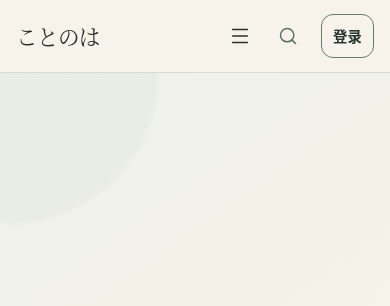
Test: SiteHeader › exposes a controlled mobile menu and closes it after choosing a destination
Click the button named "打开主导航" at (240, 36), box [218,14,262,58]
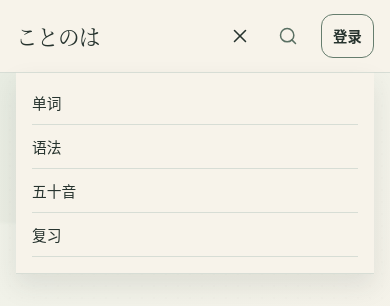
Check: the button named "打开主导航" is expanded, box [218,14,262,58]
Click the link "语法" at (47, 146), box [32,125,358,169]
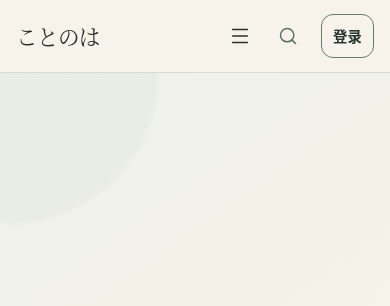
Check: the button named "打开主导航" is collapsed, box [218,14,262,58]
